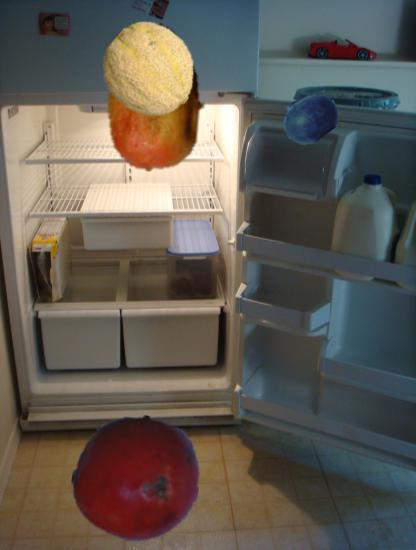Cantaloupe: (102, 23, 198, 119)
Huckleberry: (281, 89, 339, 147)
Papaya: (83, 23, 232, 172)
Pomegranate: (73, 415, 200, 542)
